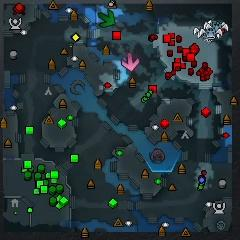x1: (122, 52, 139, 71)
x4: (97, 11, 115, 27)
